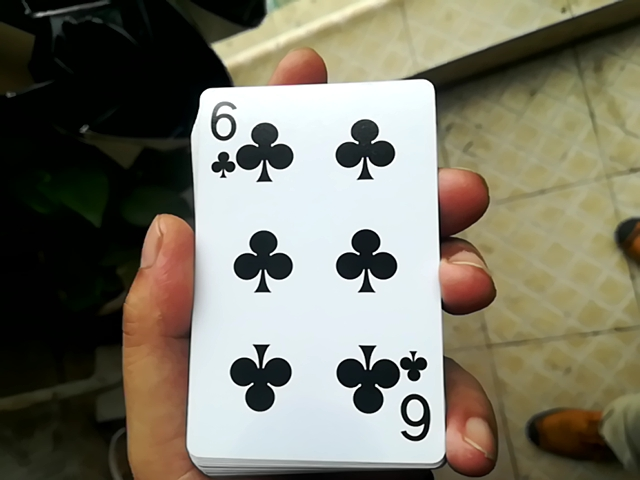mh 6: (174, 81, 445, 464)
